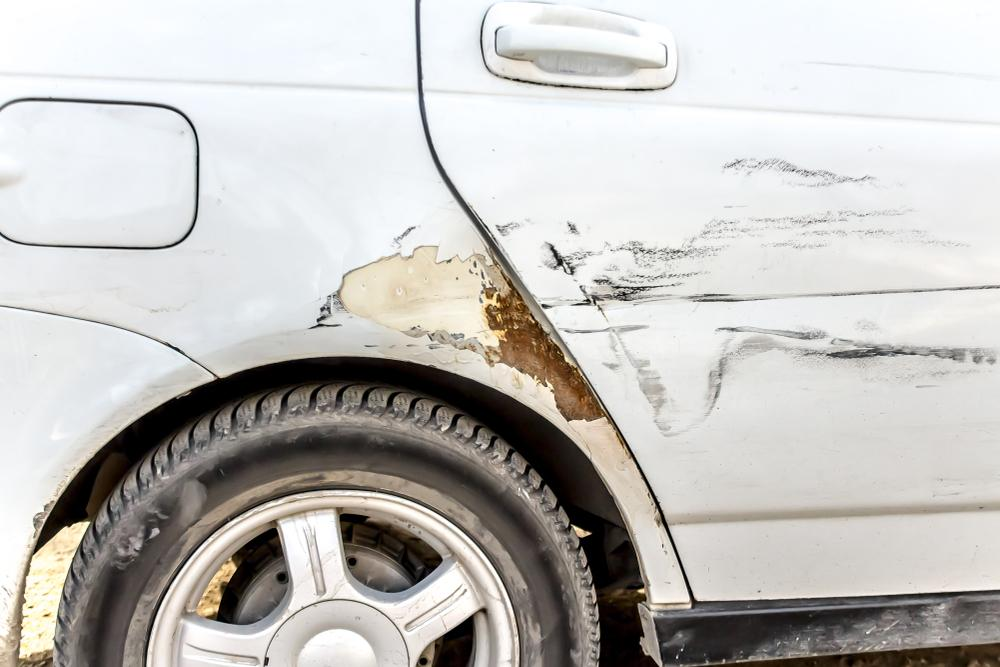scratch: (491, 152, 1000, 445), (307, 226, 607, 437)
